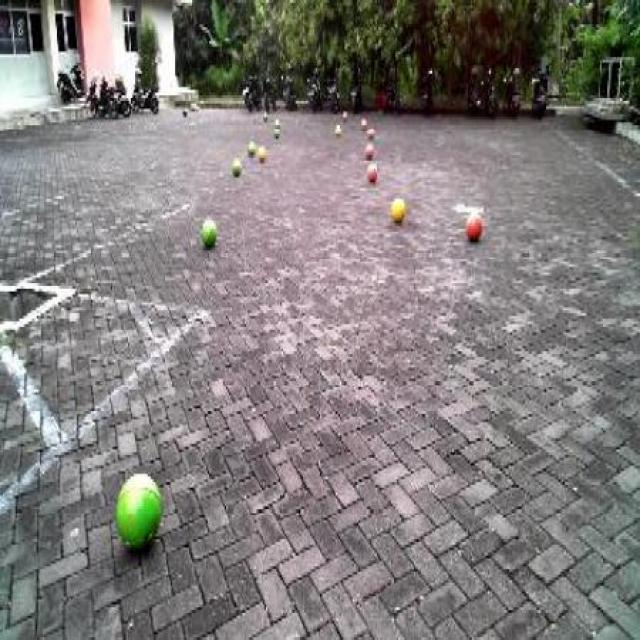buoy: (111, 453, 163, 571), (456, 200, 488, 250), (196, 209, 219, 262), (385, 187, 411, 230), (222, 150, 245, 186), (360, 158, 380, 182), (254, 135, 269, 165)
